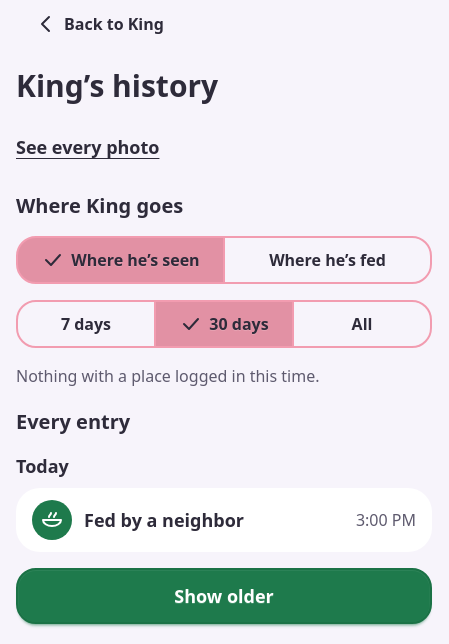
Test: HistoryPage — every entry › ignores a second tap on Show older while the first is loading
Double-click the button "Show older".
double_click(224, 596)  # box top-left (16, 568), bottom-right (432, 624)
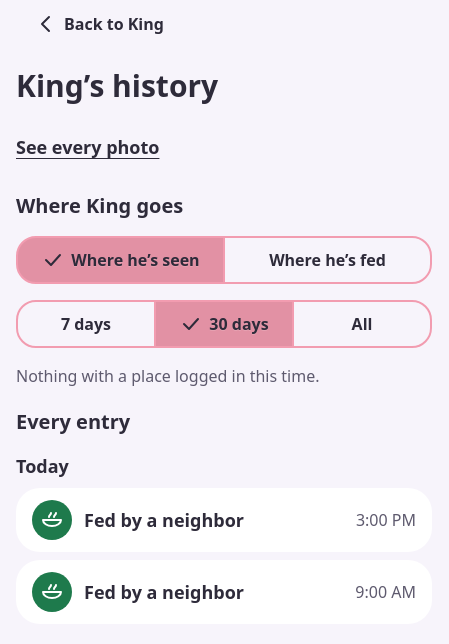
Check: the number of list items is 2, box top-left (16, 488), bottom-right (432, 552); top-left (16, 560), bottom-right (432, 624)
